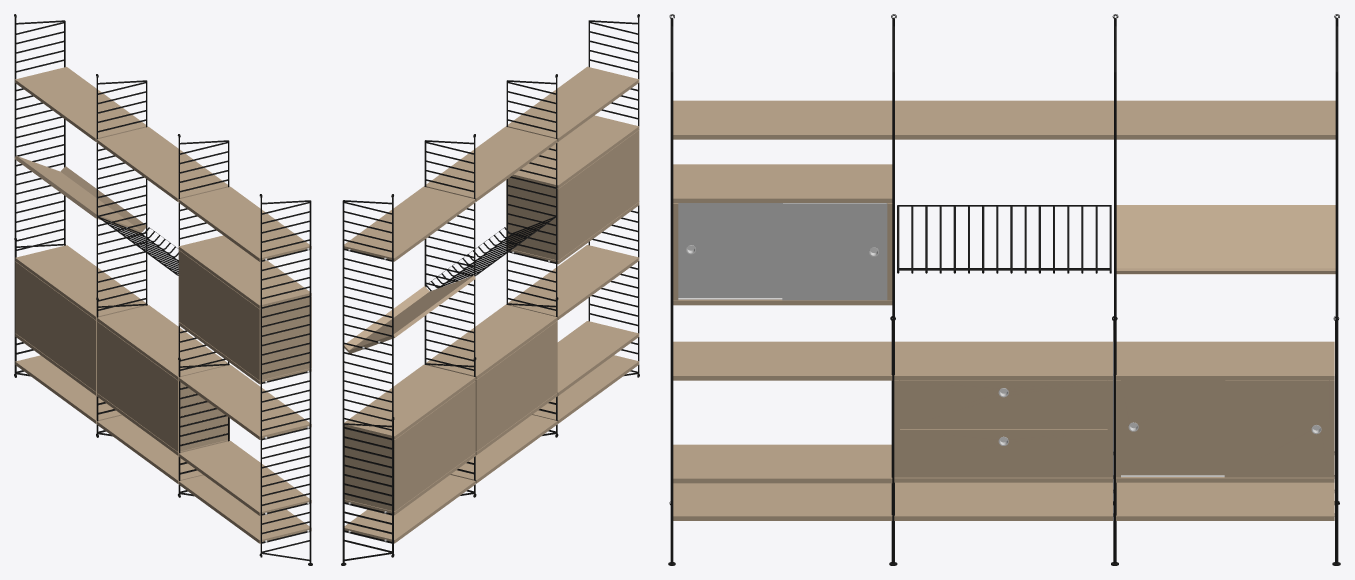
Rendered from shelving.glb.
The picture shows the model from 3 angles, left to right: view 1: azimuth 30°, elevation 25°; view 2: azimuth 150°, elevation 25°; view 3: azimuth 270°, elevation 25°; orthographic projection. The views are drawn at different scales.
Size of the model in its own units: 0.295 by 2.04 by 2.4.
